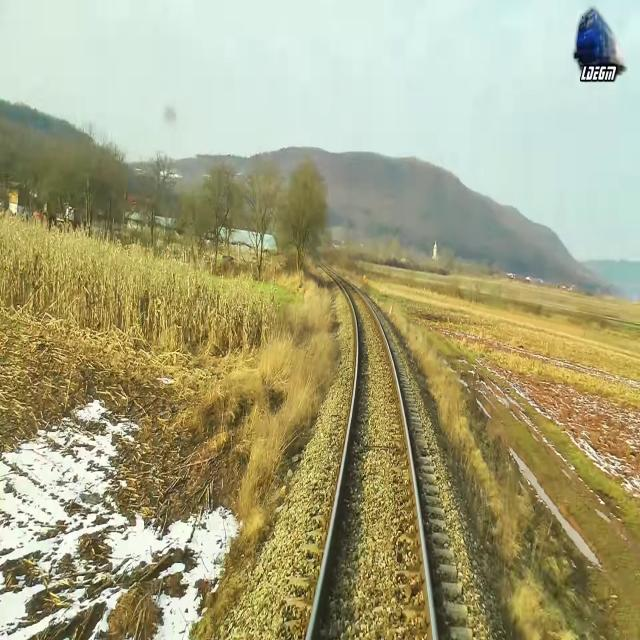rail-track: (310, 263, 433, 639)
